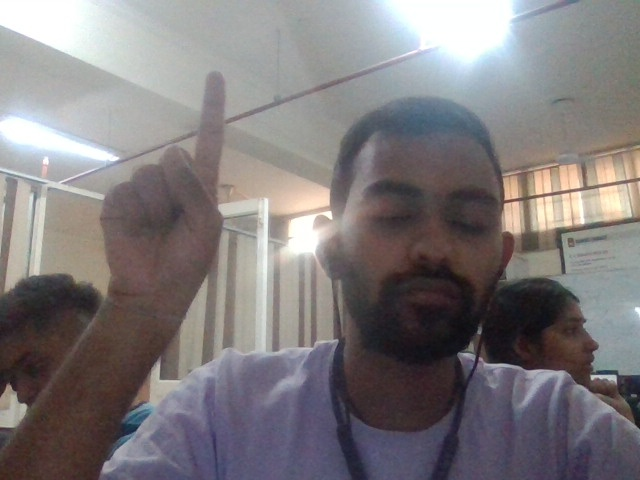Present: (99, 68, 227, 317)
